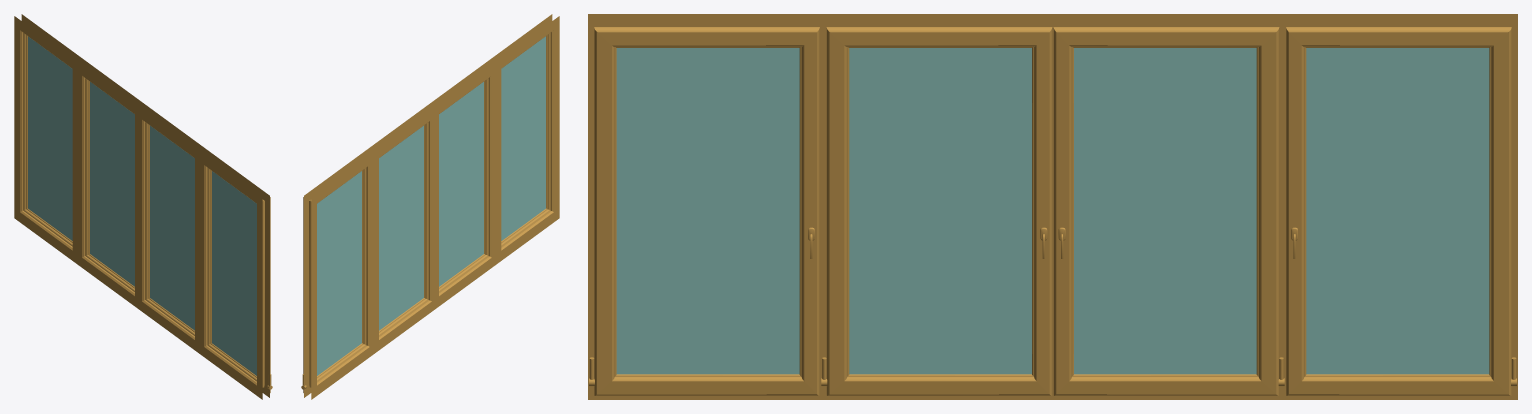
The model's file is Window.fbx.
3 views of the same model, side by side, from view 1: azimuth 30°, elevation 25°; view 2: azimuth 150°, elevation 25°; view 3: azimuth 270°, elevation 25° (orthographic). The views are drawn at different scales.
Visible parts, largest first — view 1: SM_Window_1, SM_Window_4_1, SM_Window_3_1, SM_Window_2_1; view 2: SM_Window_1, SM_Window_4_1, SM_Window_2_1, SM_Window_3_1; view 3: SM_Window_1, SM_Window_2_1, SM_Window_3_1, SM_Window_4_1.
Boxes of the visible parts, x1,y1,x2,y2 form: SM_Window_1: (14, 14, 269, 399); SM_Window_4_1: (207, 168, 272, 392); SM_Window_3_1: (145, 122, 194, 335); SM_Window_2_1: (85, 78, 134, 291); SM_Window_1: (301, 14, 559, 399); SM_Window_4_1: (501, 33, 550, 246); SM_Window_2_1: (379, 122, 428, 335); SM_Window_3_1: (439, 78, 488, 291); SM_Window_1: (588, 14, 1517, 399); SM_Window_2_1: (1053, 27, 1284, 395); SM_Window_3_1: (821, 27, 1052, 395); SM_Window_4_1: (589, 27, 819, 395).
Bounding box in the file's own units: 12.68 × 180 × 400.
